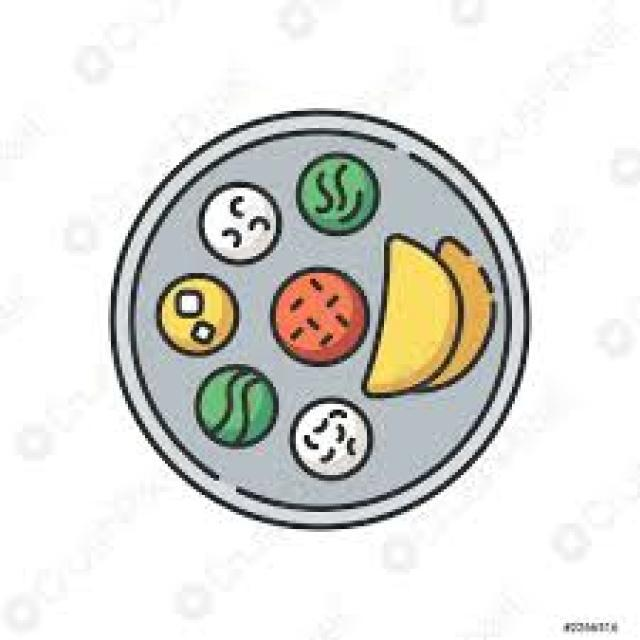dal: (367, 245, 460, 388)
sambar-rasam: (261, 267, 381, 365), (187, 177, 288, 273)
sweet: (143, 272, 254, 361), (183, 182, 290, 267)
